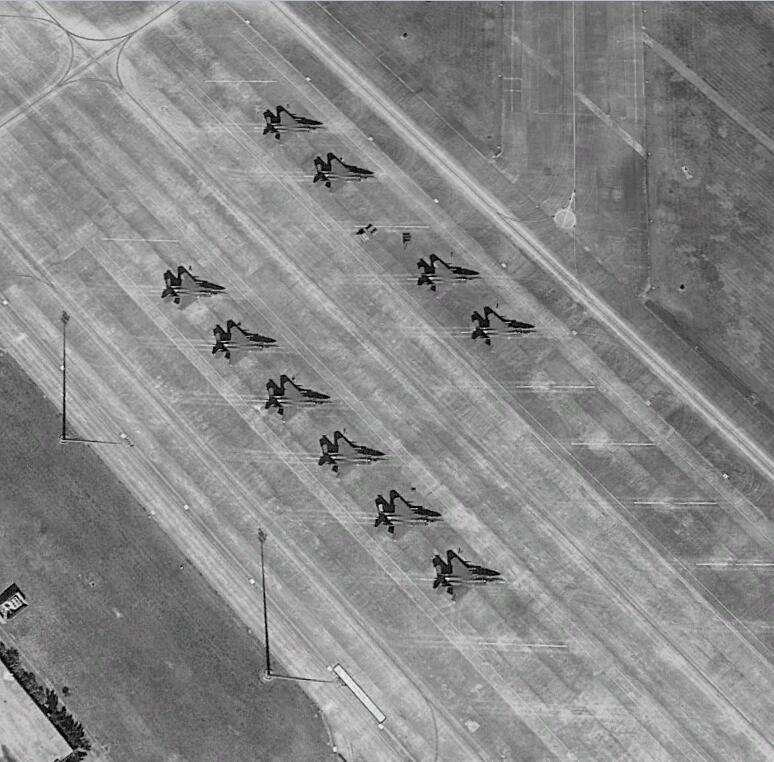A13: (432, 554, 508, 606), (374, 494, 448, 543), (470, 308, 543, 354), (319, 433, 390, 478), (265, 376, 335, 421), (161, 266, 229, 311), (418, 255, 486, 299), (212, 323, 280, 367), (262, 108, 328, 149), (313, 157, 378, 192)
